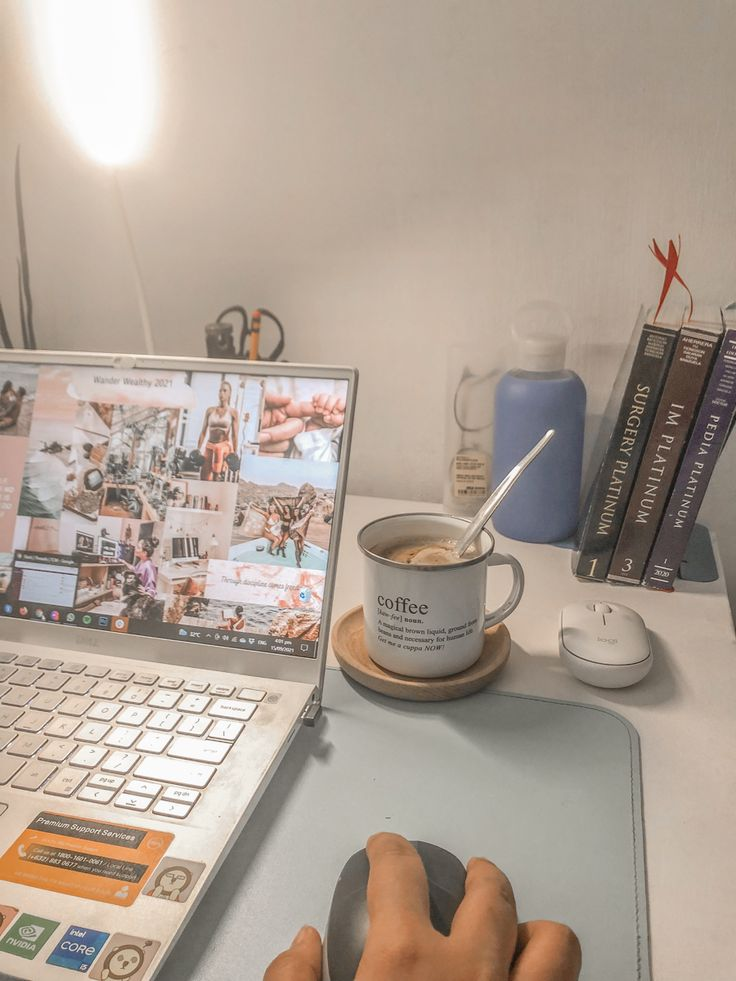not a gesture sign: (378, 517, 538, 755)
